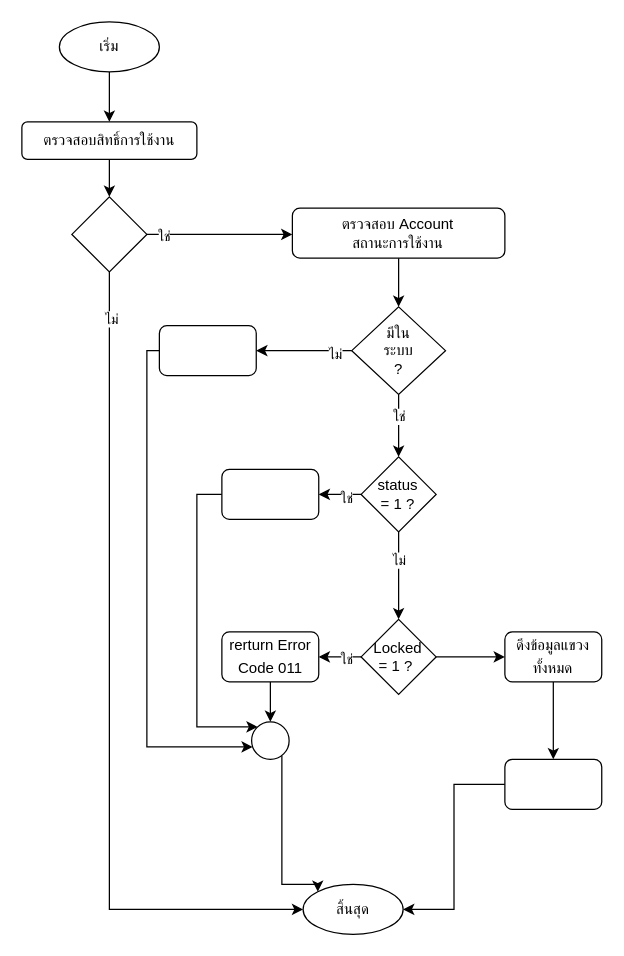
Image size: 624x956. Some labels were removed from this diagram. Each missing label, with the centre of its shape:
"rerturn Error Code 001" belongs at [207,350].
"rerturn Error Code 004" belongs at [270,493].
"มี ?" belongs at [109,234].
"ส่งข้อมูลแขวงกลับไป" belongs at [553,783].
